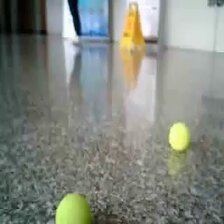tennis: (55, 193, 90, 224), (169, 121, 191, 151)
